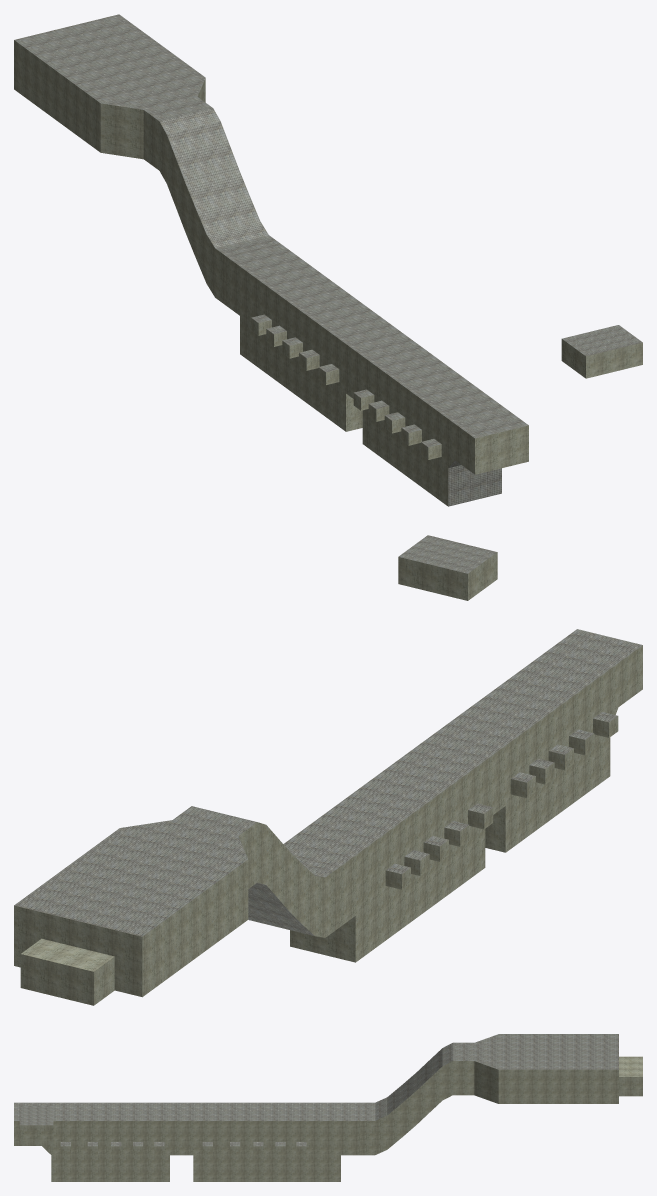
Rendered from map.obj.
The picture shows the model from 3 angles, top to bottom: view 1: azimuth 30°, elevation 25°; view 2: azimuth 150°, elevation 25°; view 3: azimuth 270°, elevation 25°; orthographic projection. The views are drawn at different scales.
Visible parts, largest first — view 1: Cube.001, Cube.002_Cube.007, Plane; view 2: Cube.001, Cube.002_Cube.007, Plane; view 3: Cube.001, Cube.002_Cube.007, Plane.
Boxes of the visible parts, box(x1,y1,x2,y2) form: Cube.001: box(226, 243, 528, 506); Cube.002_Cube.007: box(14, 14, 279, 305); Plane: box(561, 325, 642, 378); Cube.001: box(283, 629, 642, 962); Cube.002_Cube.007: box(14, 806, 338, 1005); Plane: box(398, 535, 497, 600); Cube.001: box(14, 1102, 360, 1181); Cube.002_Cube.007: box(360, 1034, 642, 1155); Plane: box(19, 1106, 53, 1140).
Size of the model in its own units: 41.23 by 34.66 by 164.
2 materials, 2 textured.
